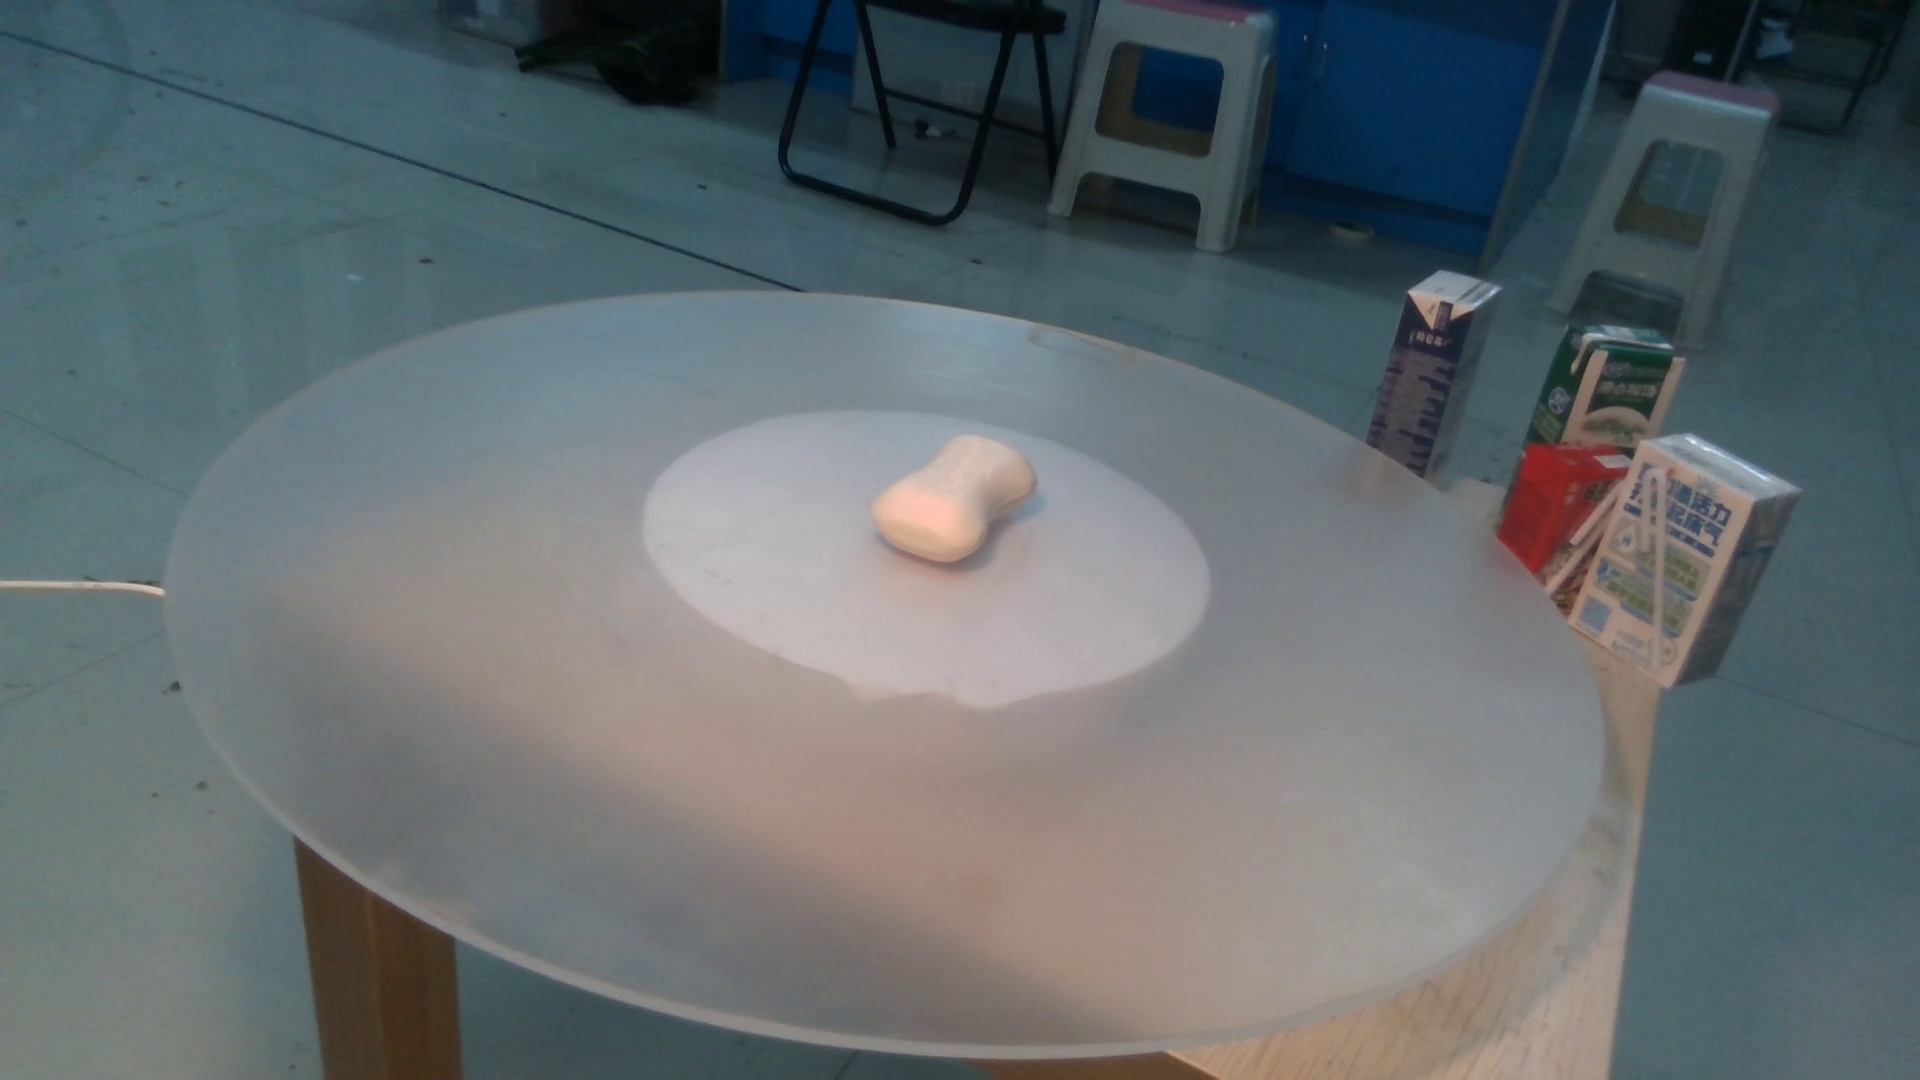CA003_1: (832, 400, 1054, 575)
